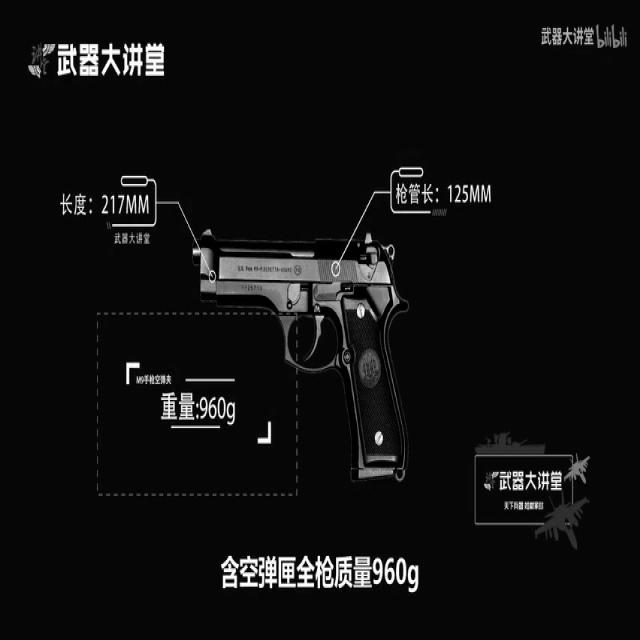Hand-Gun: (169, 134, 470, 566)
